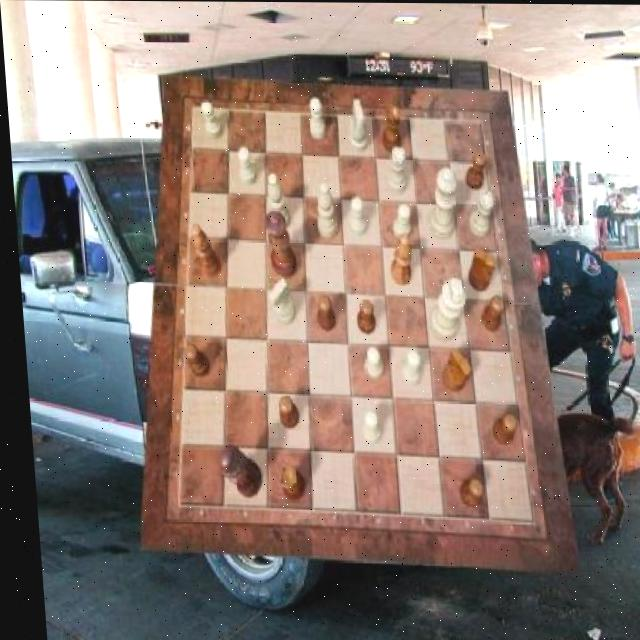bishop: (188, 224, 218, 278), (384, 233, 410, 286)
black-bishop: (211, 444, 256, 498)
black-king: (437, 347, 469, 393), (464, 247, 495, 291)
black-knight: (463, 150, 488, 189), (476, 295, 502, 331), (178, 344, 204, 378), (486, 413, 512, 446), (452, 478, 479, 507), (272, 395, 294, 430), (351, 300, 371, 335), (311, 294, 330, 330)
black-pawn: (262, 211, 295, 278)
black-queen: (380, 104, 403, 153), (273, 466, 300, 502)
black-rook: (264, 174, 288, 230), (312, 182, 335, 238)
white-bishop: (422, 276, 463, 341)
white-king: (264, 278, 293, 325), (344, 99, 367, 151)
white-knight: (200, 100, 222, 137), (394, 348, 416, 384), (345, 197, 365, 236), (355, 409, 377, 444), (236, 146, 256, 184), (389, 204, 410, 240), (306, 97, 324, 139), (359, 346, 378, 381)
white-pawn: (423, 167, 458, 240)
white-queen: (463, 191, 493, 237), (382, 147, 406, 195)
